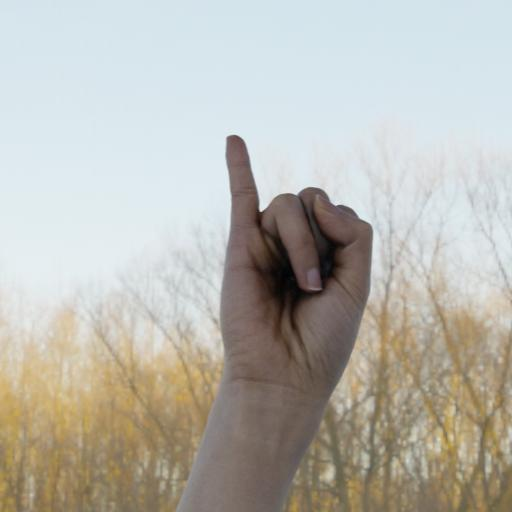I: (189, 100, 409, 416)
